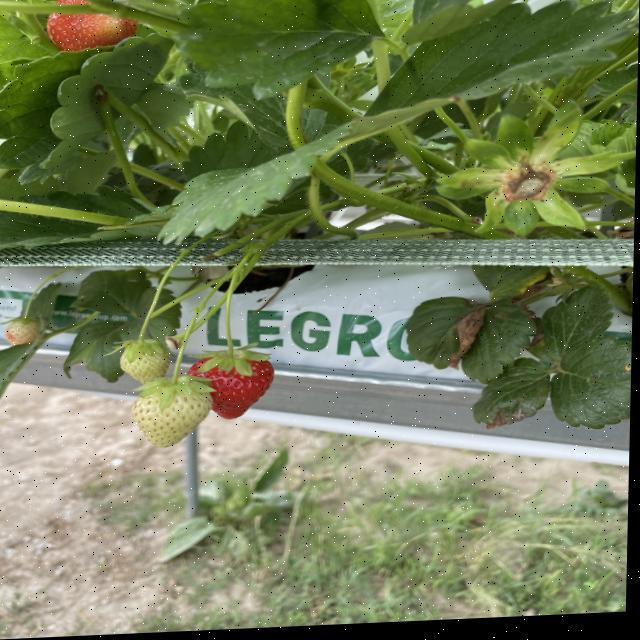stem: (140, 310, 212, 408), (208, 279, 267, 375), (116, 289, 163, 359)
strawberryNR: (132, 392, 208, 446), (120, 348, 163, 382)
strawberryR: (204, 360, 272, 417)
